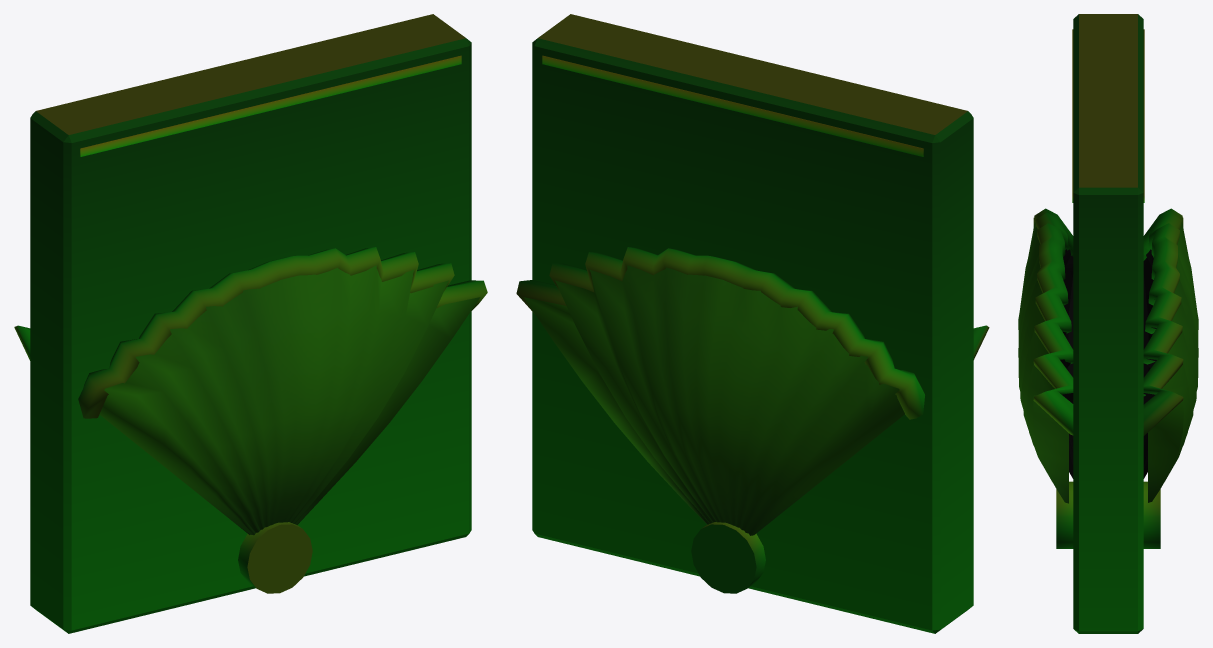
File: shrine_door_valve.glb
3 renders of one model, left to right at view 1: azimuth 30°, elevation 25°; view 2: azimuth 150°, elevation 25°; view 3: azimuth 270°, elevation 25°, orthographic. The views are drawn at different scales.
Visible parts, largest first — view 1: shrine_door_valve; view 2: shrine_door_valve; view 3: shrine_door_valve.
Part boxes in pixels (x1,y1,x2,y2): shrine_door_valve: (14, 14, 487, 633); shrine_door_valve: (516, 14, 989, 633); shrine_door_valve: (1018, 14, 1198, 633).
Size of what is drawn, in the model's own units: 3 by 3.5 by 1.28.
